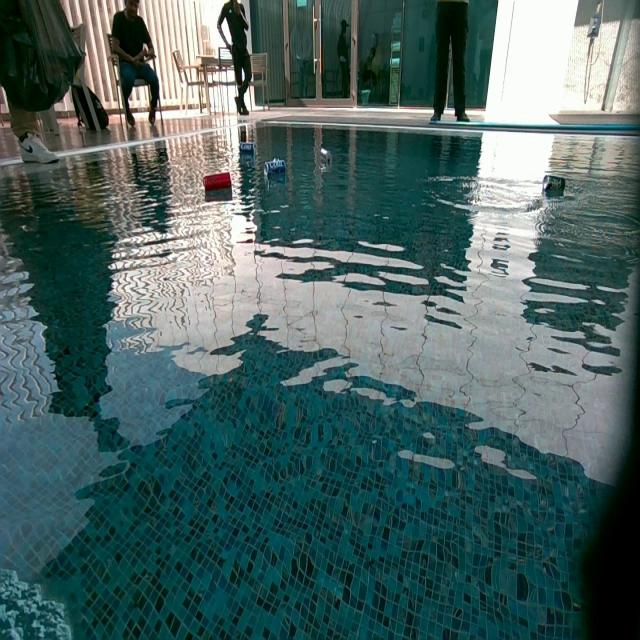Cans: (204, 172, 231, 191), (541, 174, 565, 194), (266, 159, 287, 177), (321, 146, 332, 170), (238, 142, 253, 155)
